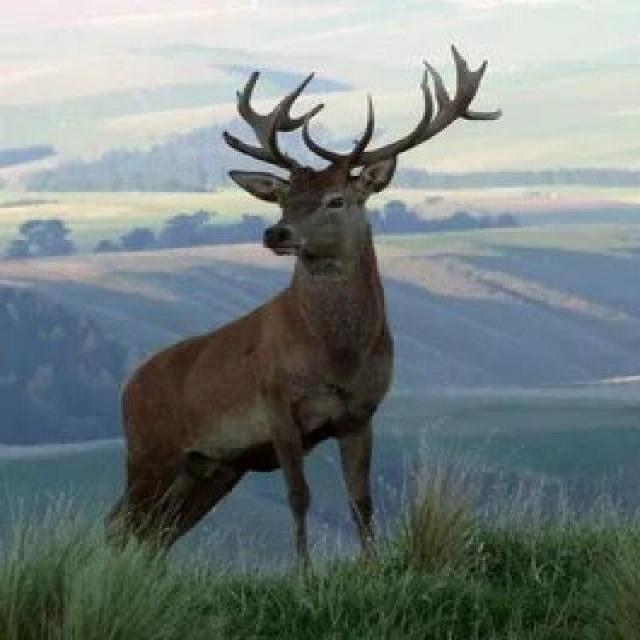deer: (66, 24, 483, 603)
